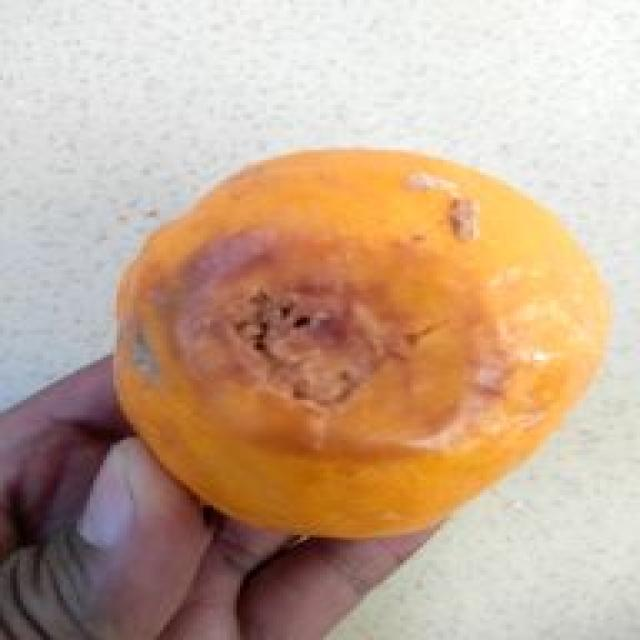Bad_Orange: (117, 151, 608, 537)
